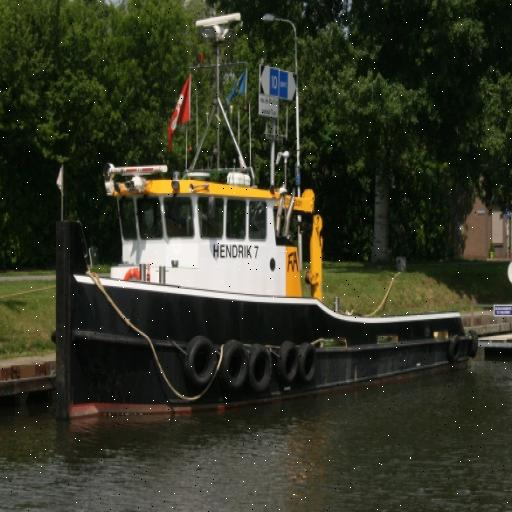tugboat: (48, 9, 482, 443)
